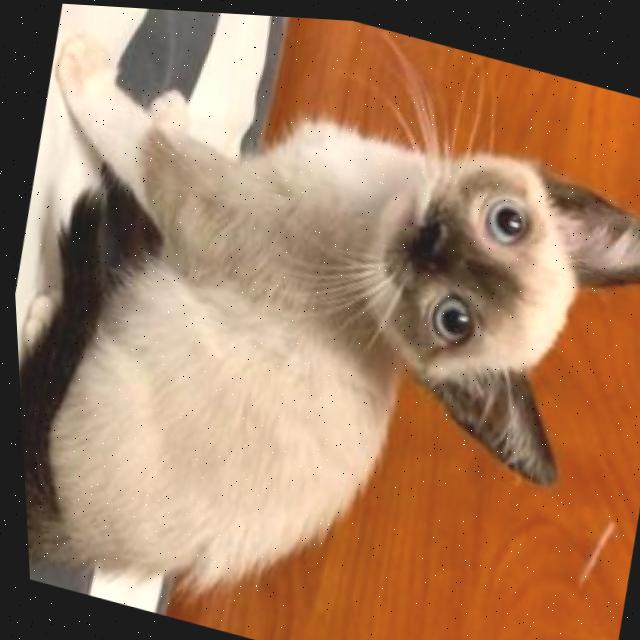Siamese: (1, 19, 640, 640)
